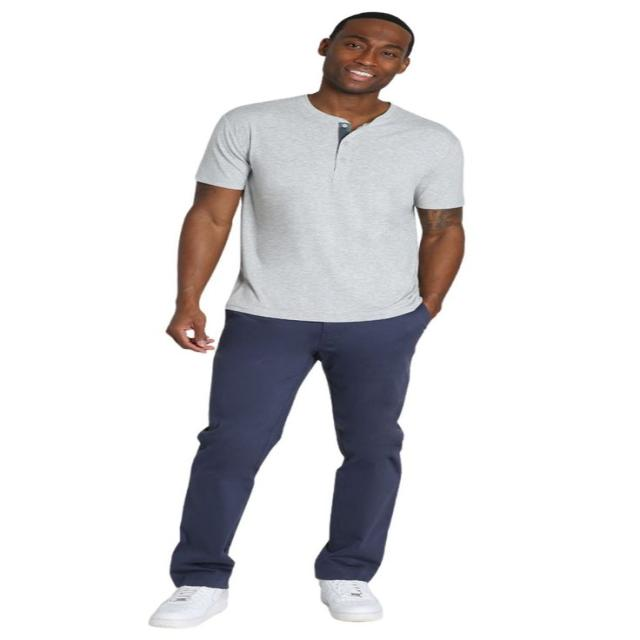Upper-Body: (196, 96, 465, 321)
